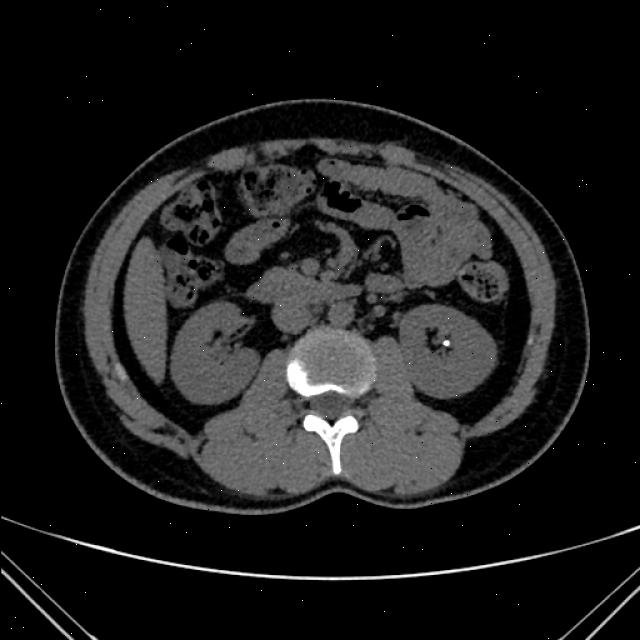kidneystone: (436, 334, 451, 347)
